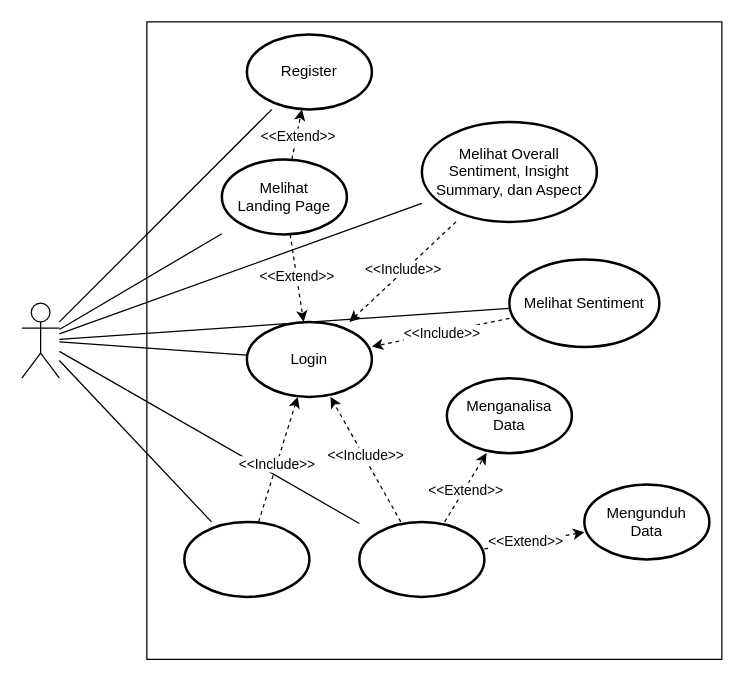
Image size: 744x681. Some labels were removed from this diagram. Each missing label, with the centre of its shape:
"Melihat Data Scrapper" belongs at [421,559].
"Melihat Rekomendasi Konten" belongs at [246,559].
"User" belongs at [40,340].
